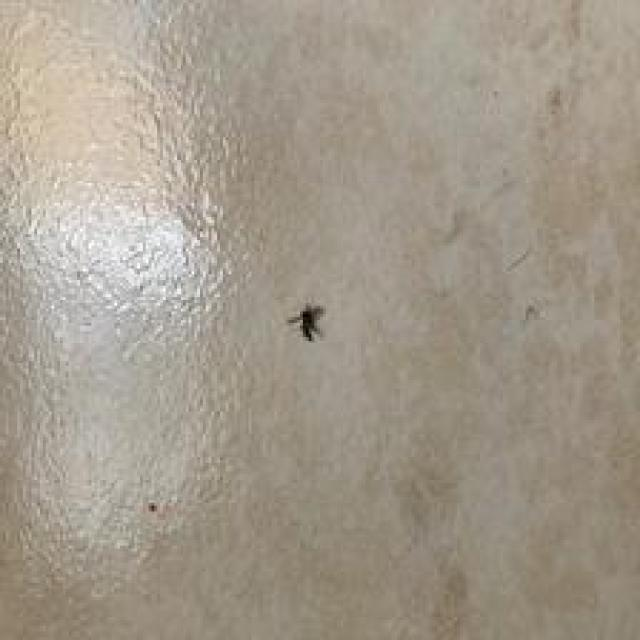Aedes albopictus: (287, 302, 324, 342)
